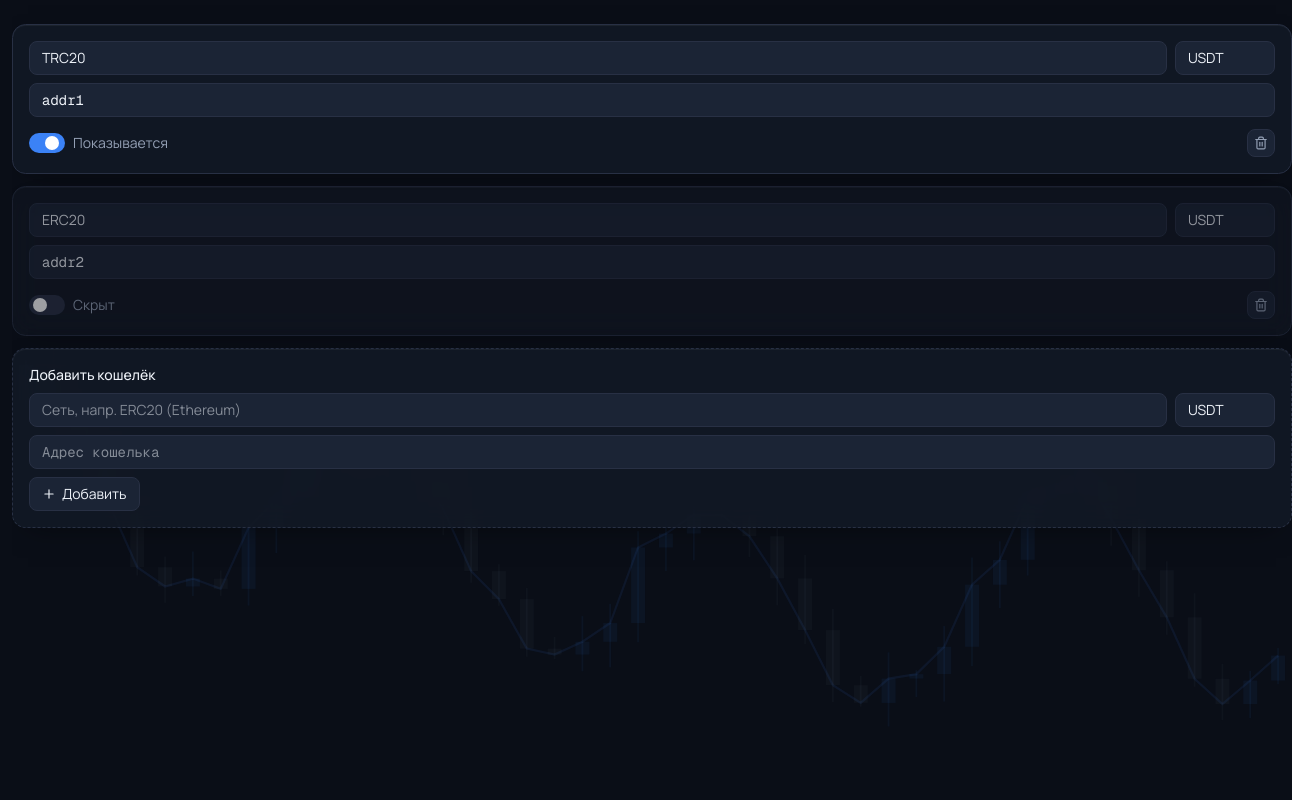
Test case: AdminDonate › shows error message on failed save
This screenshot has width=1292, height=800.
Replace the text in the 1st field showing "TRC20" with "X": (598, 58) 29,41 -> 1167,75
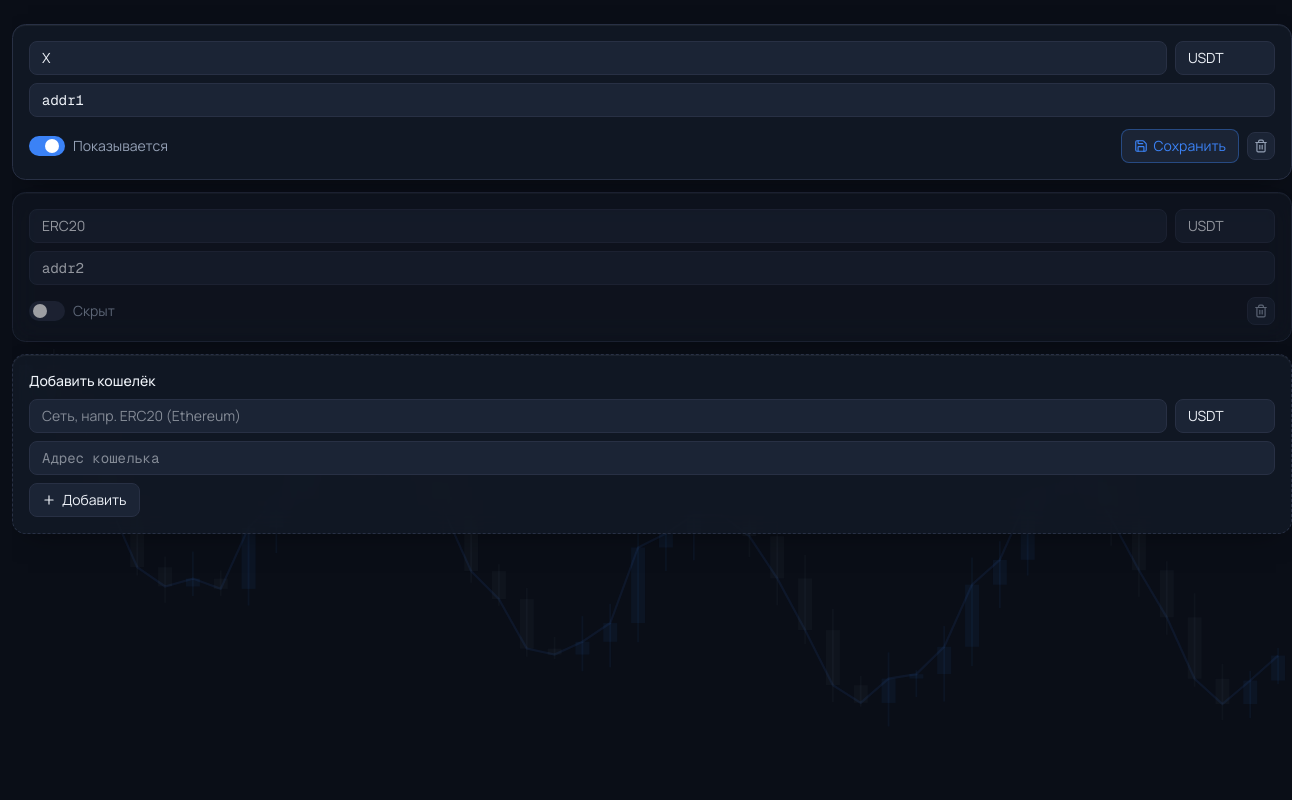
Click the button "Сохранить": (1180, 146) 1121,129 -> 1239,163
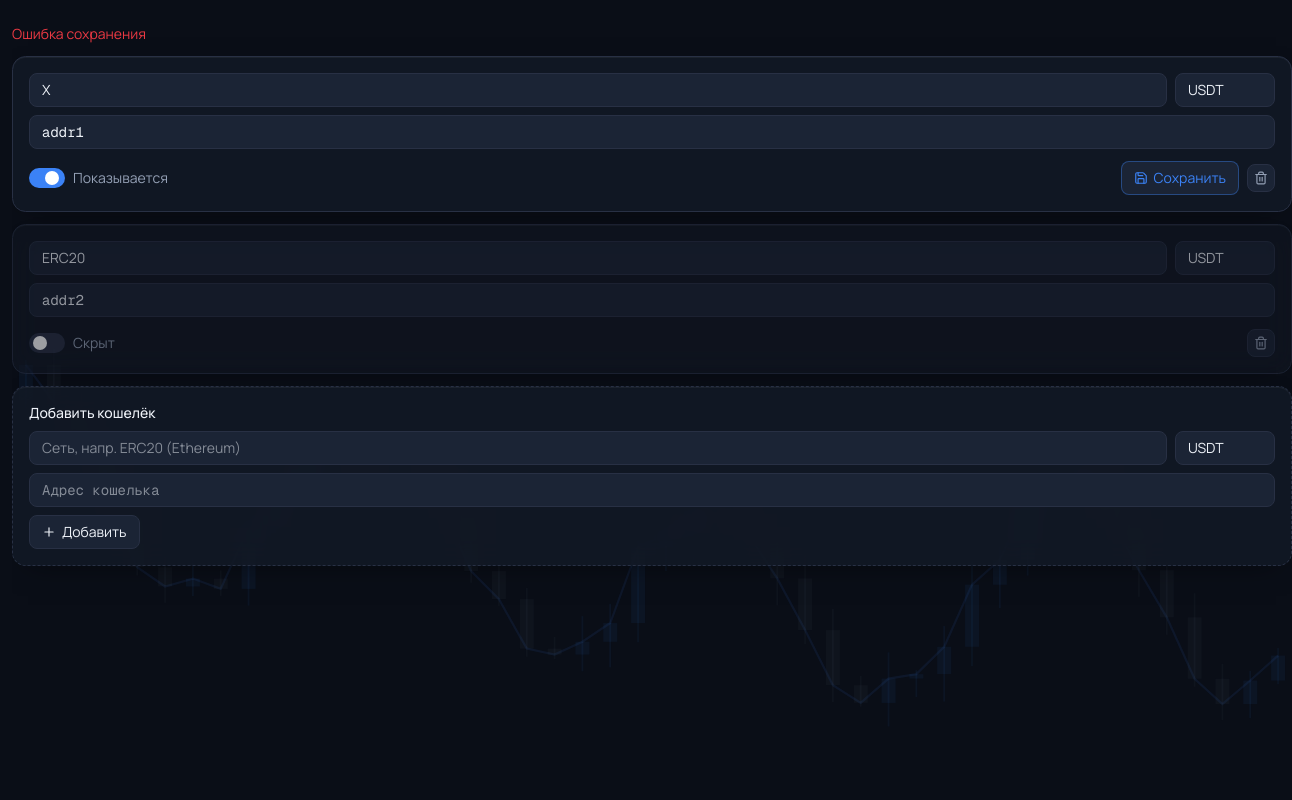
Expected: the text "Ошибка сохранения" is shown, 12,24 -> 146,43
